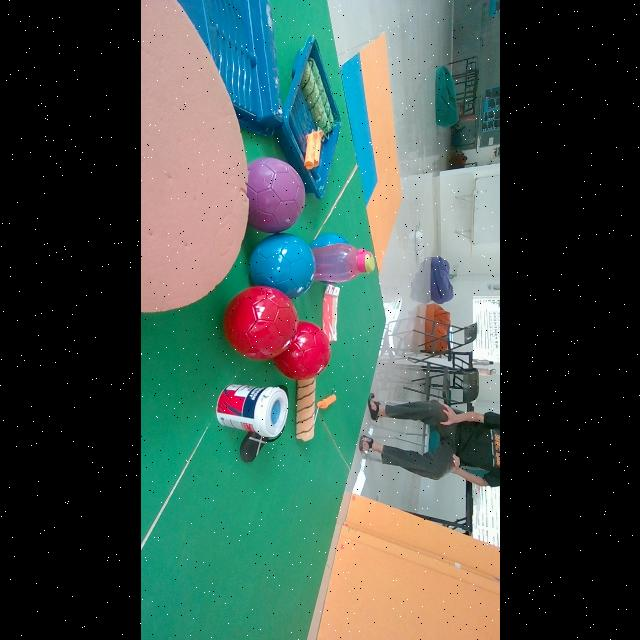B: (249, 234, 314, 298), (309, 234, 349, 249)
P: (247, 158, 304, 234)
R: (223, 287, 298, 360), (273, 321, 330, 380)
